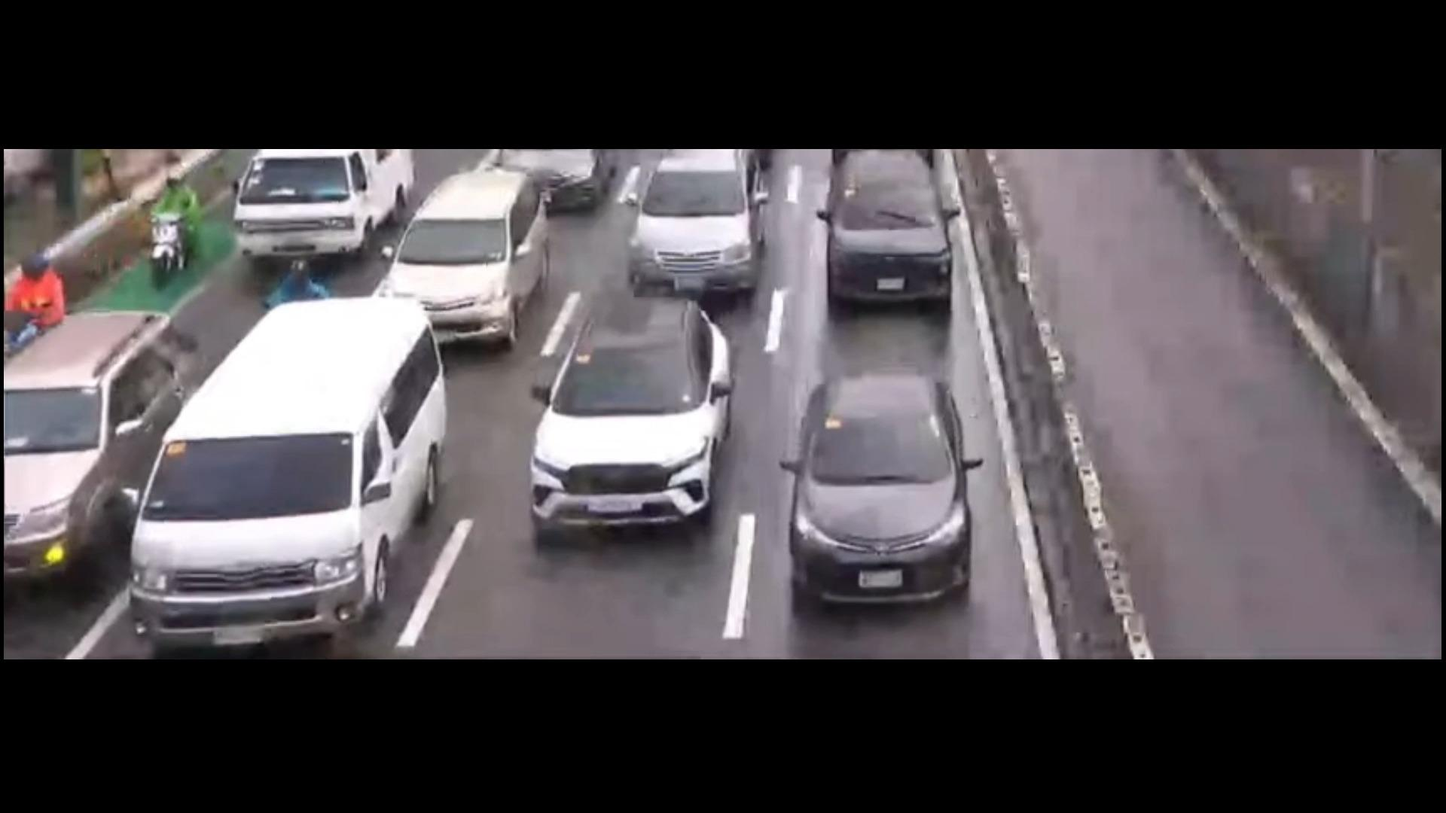Motorcycle: (120, 166, 217, 308), (0, 224, 74, 352)
SUV: (509, 285, 752, 554), (0, 286, 194, 591)
Sedan: (750, 356, 1008, 623), (376, 164, 563, 353)
Van: (102, 301, 465, 671)
